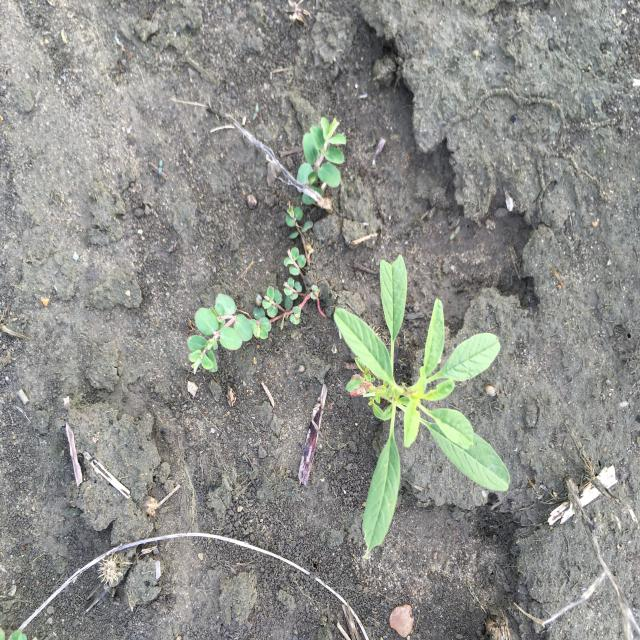SpottedSpurge: (186, 115, 348, 377)
Waterhemp: (332, 253, 512, 555)
